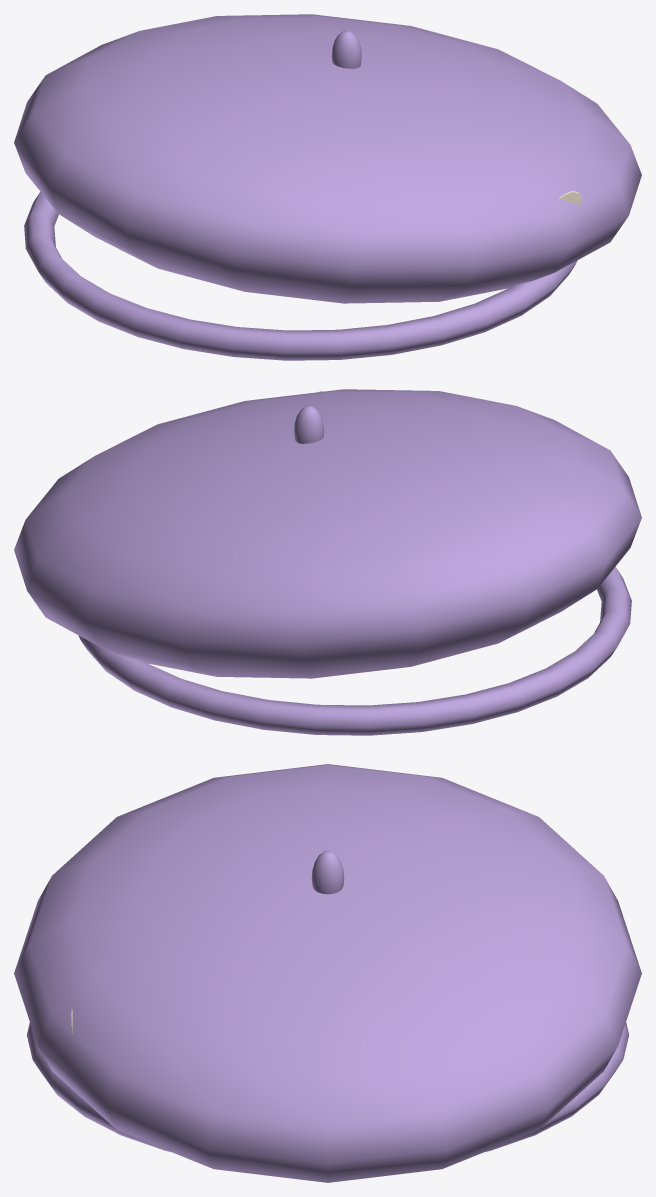
File: beret_chic.glb
3 renders of one model, top to bottom at view 1: azimuth 30°, elevation 25°; view 2: azimuth 150°, elevation 25°; view 3: azimuth 270°, elevation 25°, orthographic. The views are drawn at different scales.
Parts seen in each view (by area): view 1: Boina chic; view 2: Boina chic; view 3: Boina chic.
Part boxes in pixels (x1=…): Boina chic: x1=14, y1=14, x2=641, y2=360; Boina chic: x1=14, y1=389, x2=641, y2=735; Boina chic: x1=14, y1=764, x2=641, y2=1182.
Bounding box in the file's own units: 0.5941 × 0.2274 × 0.54.
